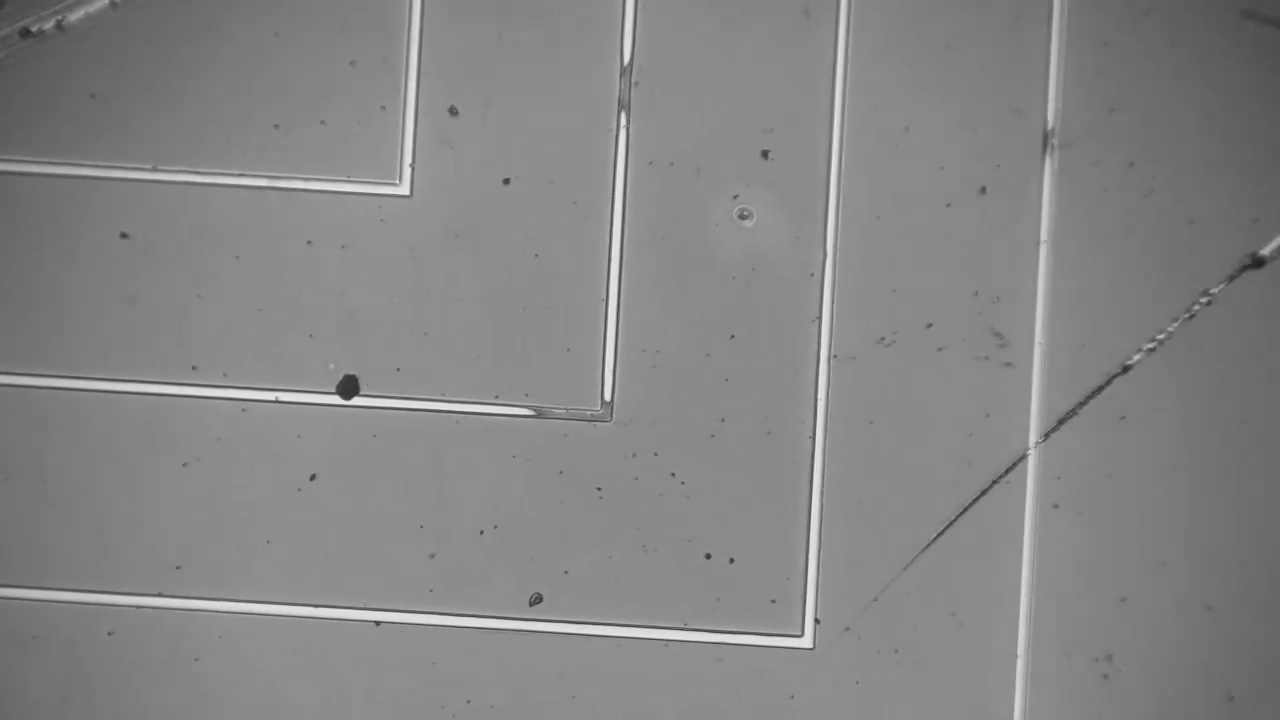edge_bite: (392, 157, 419, 171)
gray_line: (519, 397, 622, 428), (609, 43, 642, 124), (1032, 111, 1069, 170), (589, 387, 624, 434)
scratch: (876, 247, 1278, 599), (0, 1, 128, 101)
stains_enbedded: (324, 367, 370, 419)
